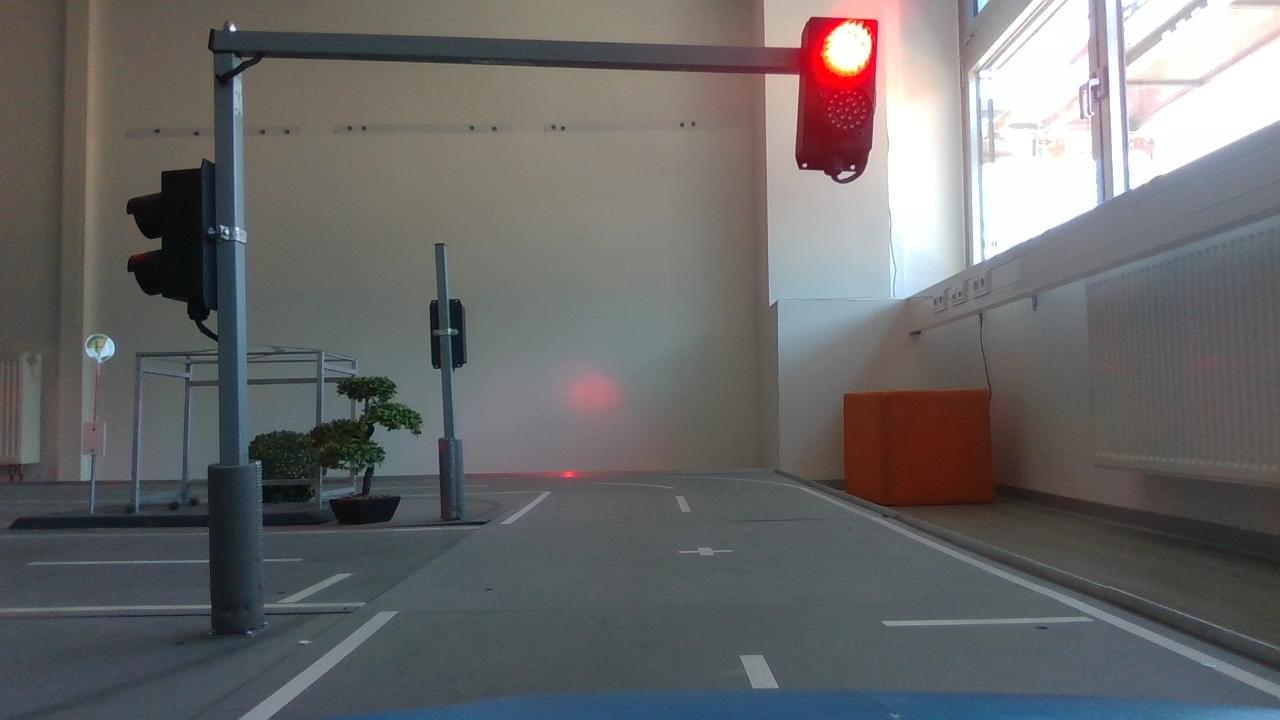traffic_light_red: (788, 5, 896, 192)
